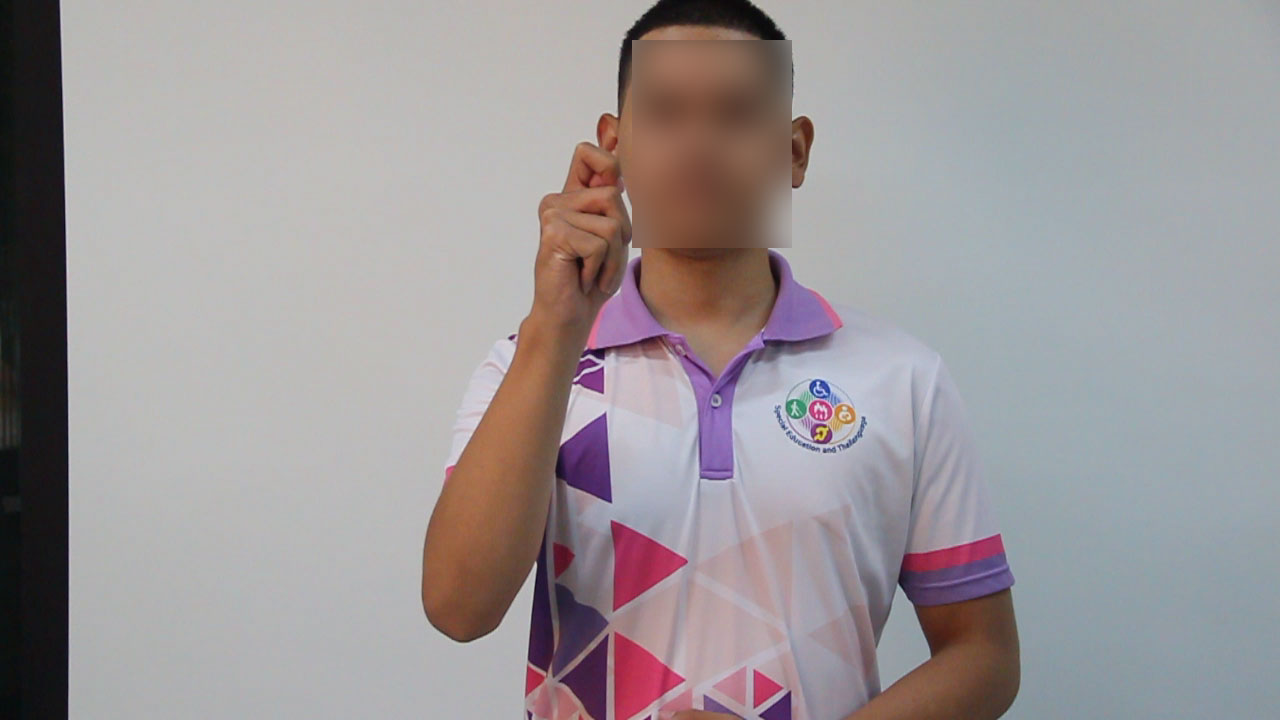or: (527, 138, 630, 343)
